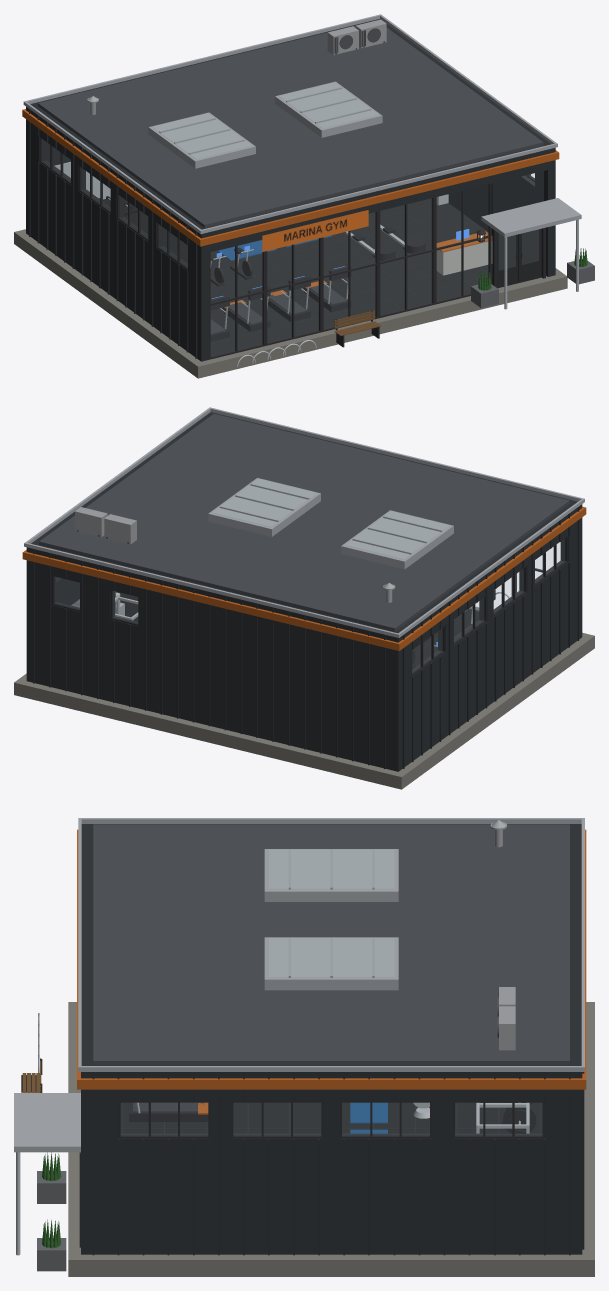
File: gym.glb
3 views of the same model, one above another, from view 1: azimuth 30°, elevation 25°; view 2: azimuth 150°, elevation 25°; view 3: azimuth 270°, elevation 25° (orthographic). The views are drawn at different scales.
Visible parts, largest first — view 1: plinth_concrete_m, cladding_seam_m, sign_gym_m; view 2: plinth_concrete_m, cladding_seam_m, window_glass_m; view 3: plinth_concrete_m, cladding_seam_m.
Boxes of the visible parts, x1,y1,x2,y2 form: plinth_concrete_m: [14, 19, 594, 378]; cladding_seam_m: [23, 14, 581, 367]; sign_gym_m: [262, 210, 368, 251]; plinth_concrete_m: [14, 412, 594, 789]; cladding_seam_m: [24, 407, 584, 768]; window_glass_m: [469, 542, 560, 611]; plinth_concrete_m: [22, 820, 594, 1276]; cladding_seam_m: [14, 818, 584, 1255].
Size of the model in its own units: 15.25 by 6.12 by 13.9.
Materials: 7 (1 with a texture image).
